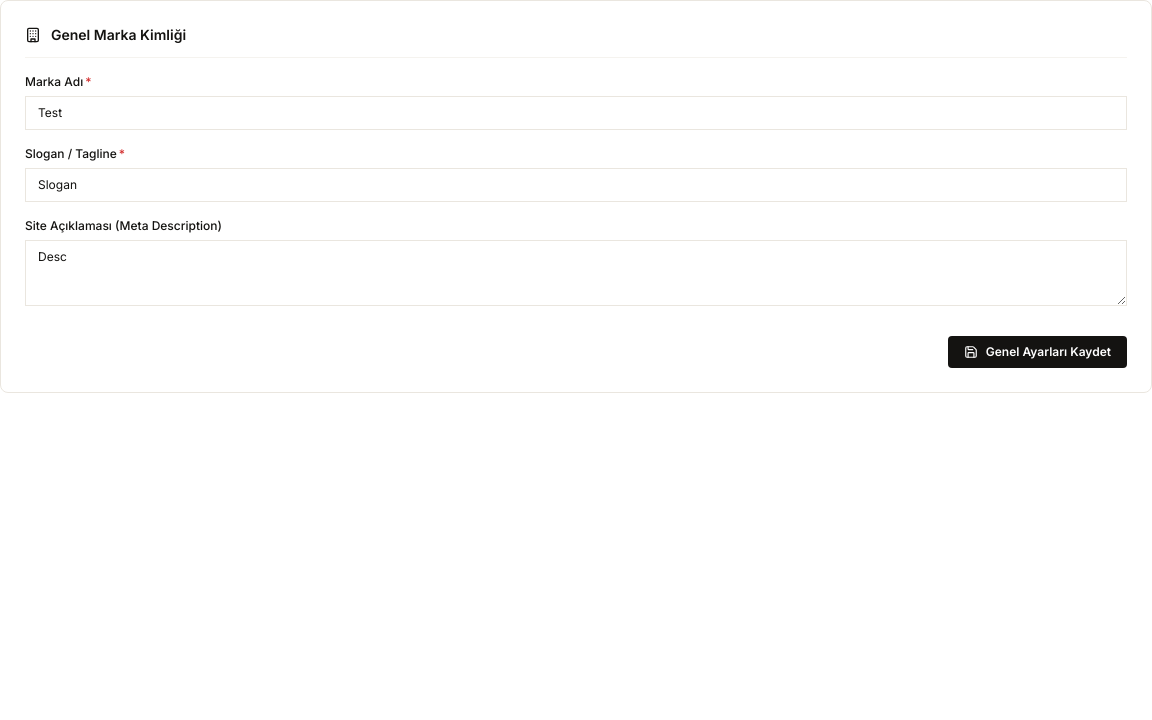
Admin Settings Tab Components (Phase 3.10) › AdminGeneralSettingsTab › handles repository error gracefully
Click the button "Genel Ayarları Kaydet" at (1037, 352), box [948,336,1127,368]
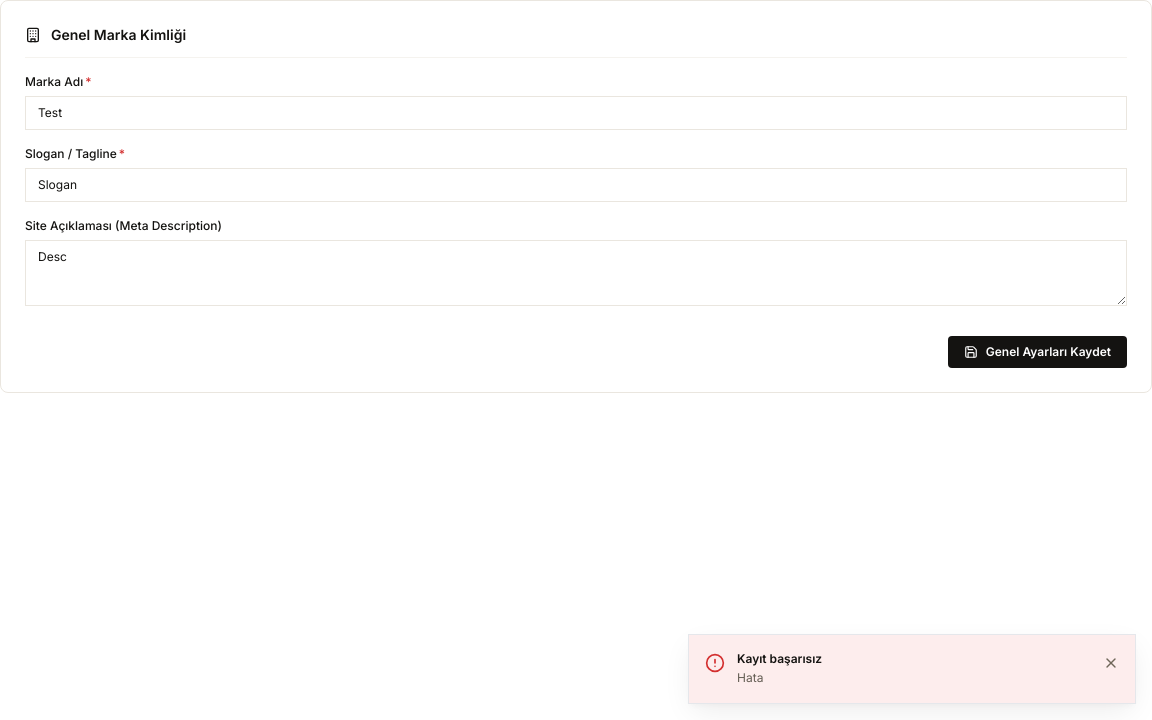
Now the heading "Kayıt başarısız" is shown, box [737,650,822,666]
